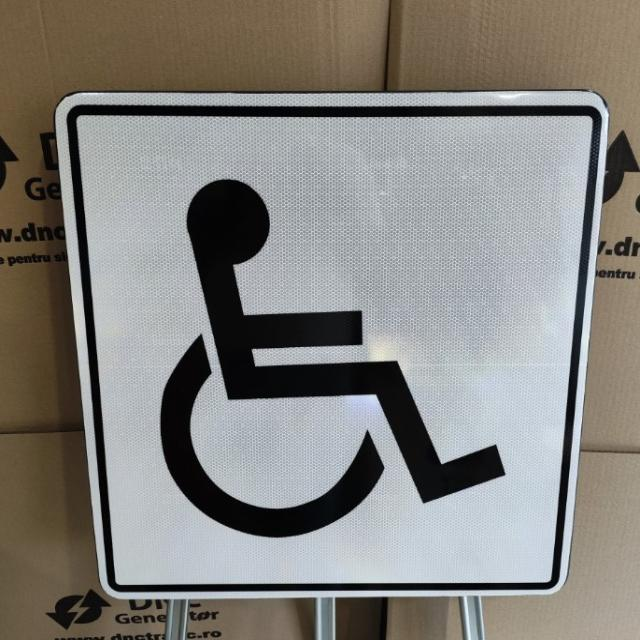symbol_of_access: (56, 90, 607, 599)
